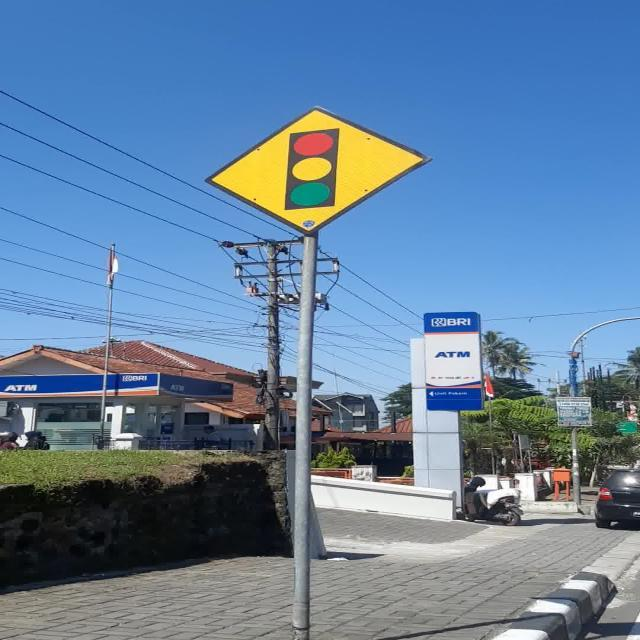Lampu Lalu Lintas: (205, 106, 432, 236)
